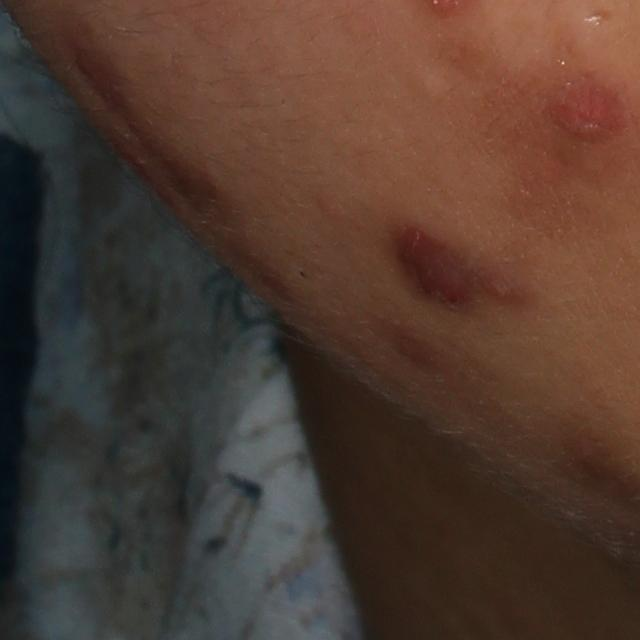atrophic_scar: (584, 6, 612, 31)
comedo: (410, 70, 451, 107)
papule: (401, 228, 478, 314), (556, 86, 620, 142)
